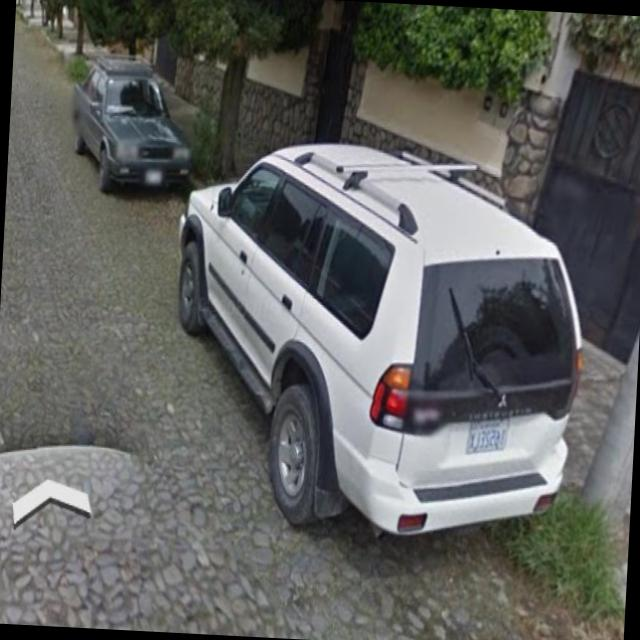car: (156, 164, 591, 568), (68, 54, 200, 197)
